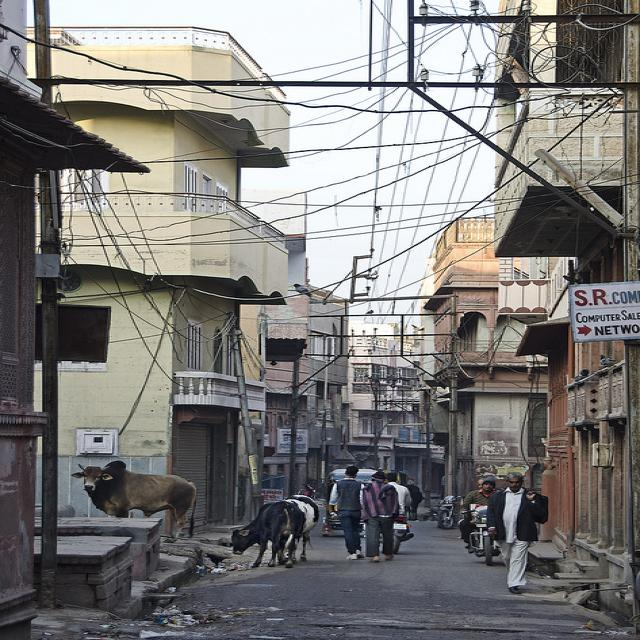motor: (463, 509, 501, 568), (436, 496, 467, 528), (393, 514, 415, 554), (298, 483, 316, 498)
